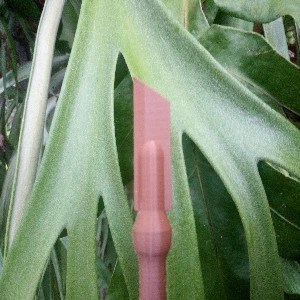cutter: (129, 75, 174, 300)
